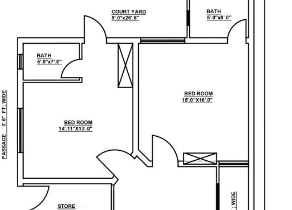door: (219, 11, 257, 61), (92, 142, 139, 182), (147, 130, 183, 181), (79, 11, 110, 49), (56, 53, 87, 86)
window: (4, 103, 40, 162), (14, 47, 31, 72)
